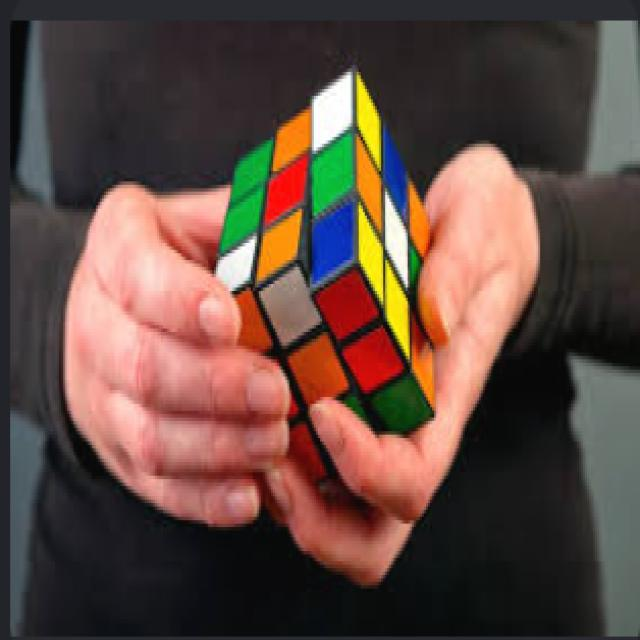Cubo-No-resuelto: (216, 68, 432, 476)
